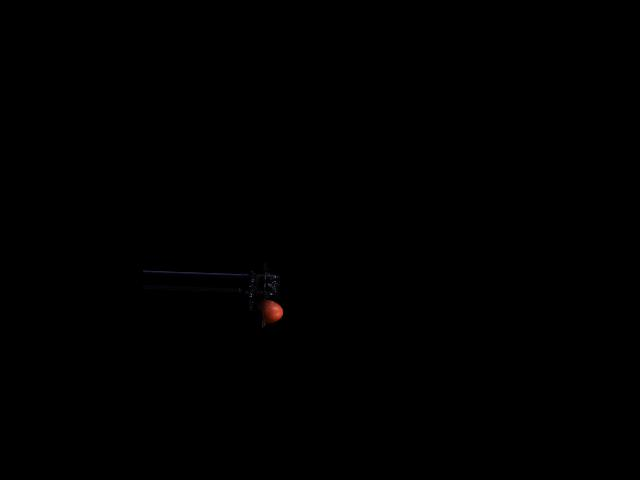egg: (250, 299, 283, 325)
